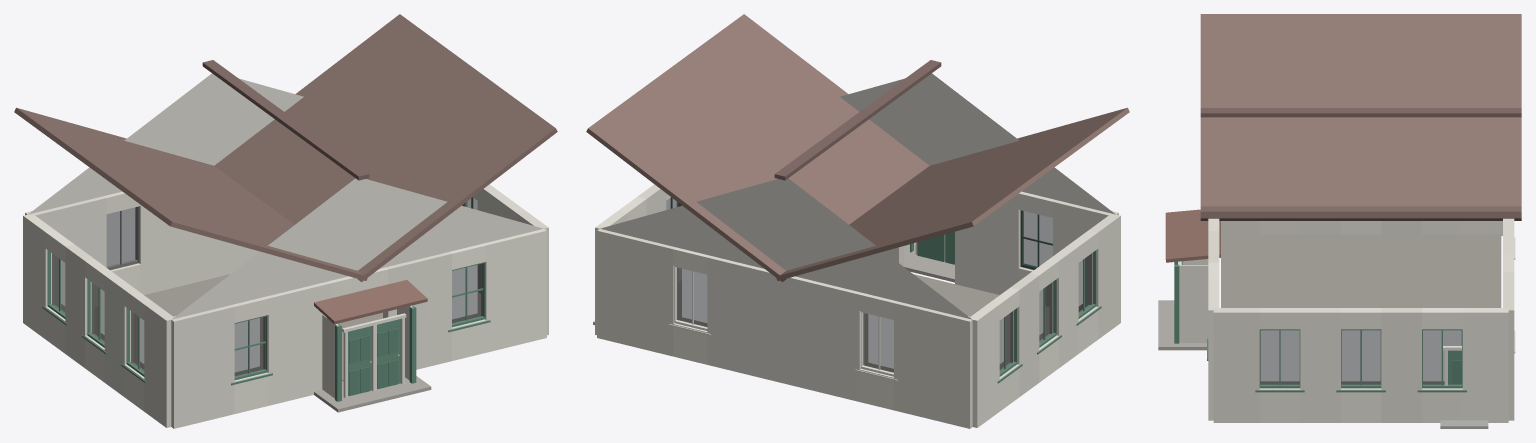
The model's file is town_village_hall_a_v.glb.
The picture shows the model from 3 angles, left to right: view 1: azimuth 30°, elevation 25°; view 2: azimuth 150°, elevation 25°; view 3: azimuth 270°, elevation 25°; orthographic projection. The views are drawn at different scales.
Visible parts, largest first — view 1: body, window_light; view 2: body, window_light; view 3: body, window_light.
Boxes of the visible parts, x1,y1,x2,y2 form: body: (14,14,557,428); window_light: (61,260,477,372); body: (586,14,1129,428); window_light: (682,260,1082,368); body: (1158,14,1521,428); window_light: (1260,330,1461,381).
Size of what is drawn, in the model's own units: 12.78 by 6.54 by 9.85.
